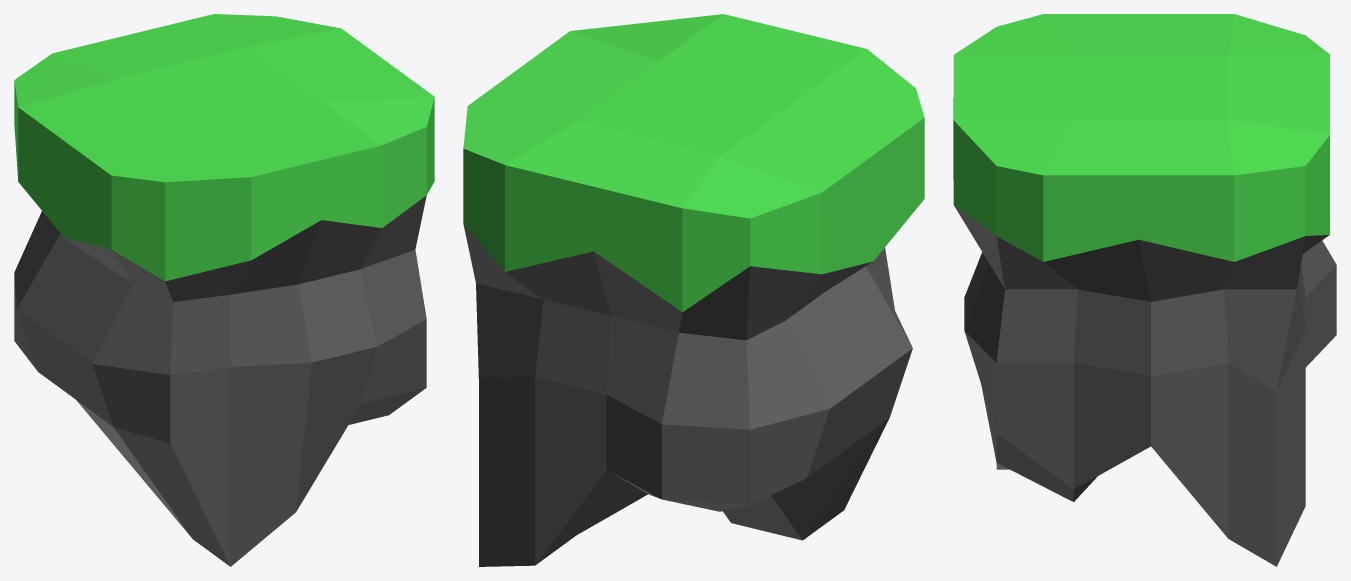
File: smallisland.fbx
The picture shows the model from 3 angles, left to right: view 1: azimuth 30°, elevation 25°; view 2: azimuth 150°, elevation 25°; view 3: azimuth 270°, elevation 25°; orthographic projection. The views are drawn at different scales.
Parts seen in each view (by area): view 1: Cube; view 2: Cube; view 3: Cube.
Boxes of the visible parts, x1=… form: Cube: x1=14, y1=14, x2=434, y2=566; Cube: x1=463, y1=14, x2=924, y2=566; Cube: x1=953, y1=14, x2=1336, y2=566.
Size of the model in its own units: 217 by 257 by 216.
